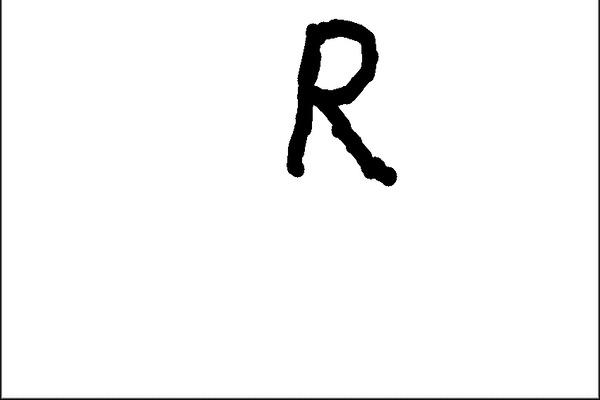R: (272, 14, 406, 196)
